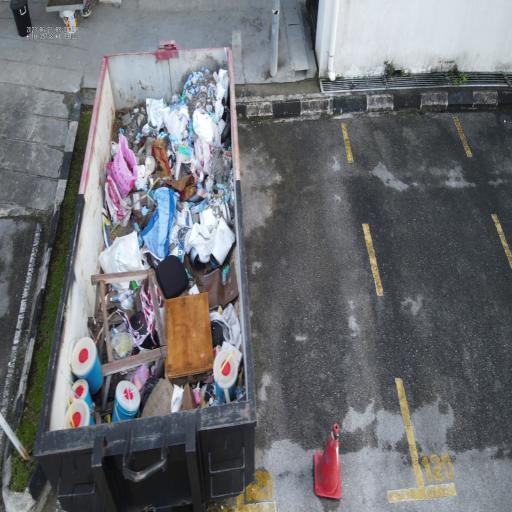Empty: (230, 85, 429, 512)
